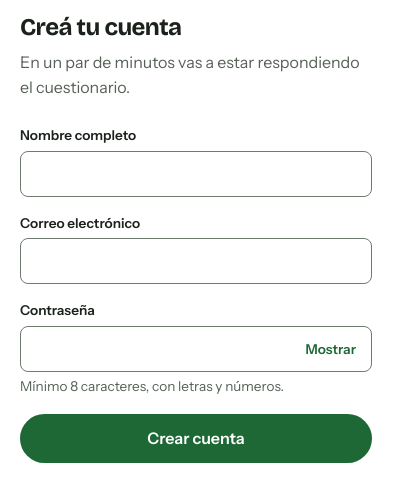
Test case: RegisterPage › muestra un error de contraseña débil al perder el foco del campo
Type "abc" into the password field labelled "Contraseña" at (196, 349), box x1=20 y1=326 x2=372 y2=372
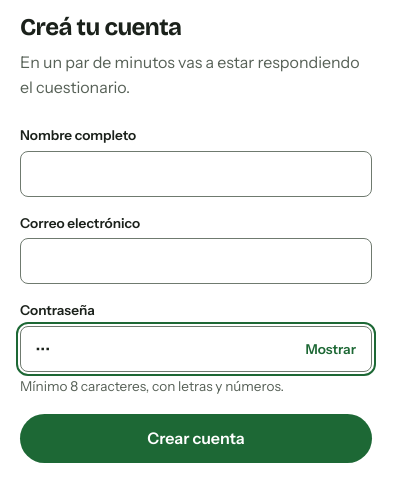
Press Tab
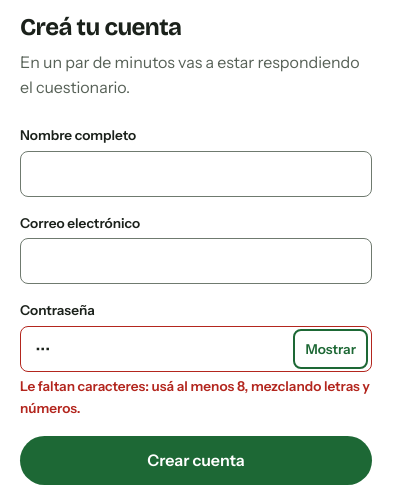
Expected: the text "Le faltan caracteres: usá al menos 8, mezclando letras y números." is shown, x1=20 y1=376 x2=372 y2=420
